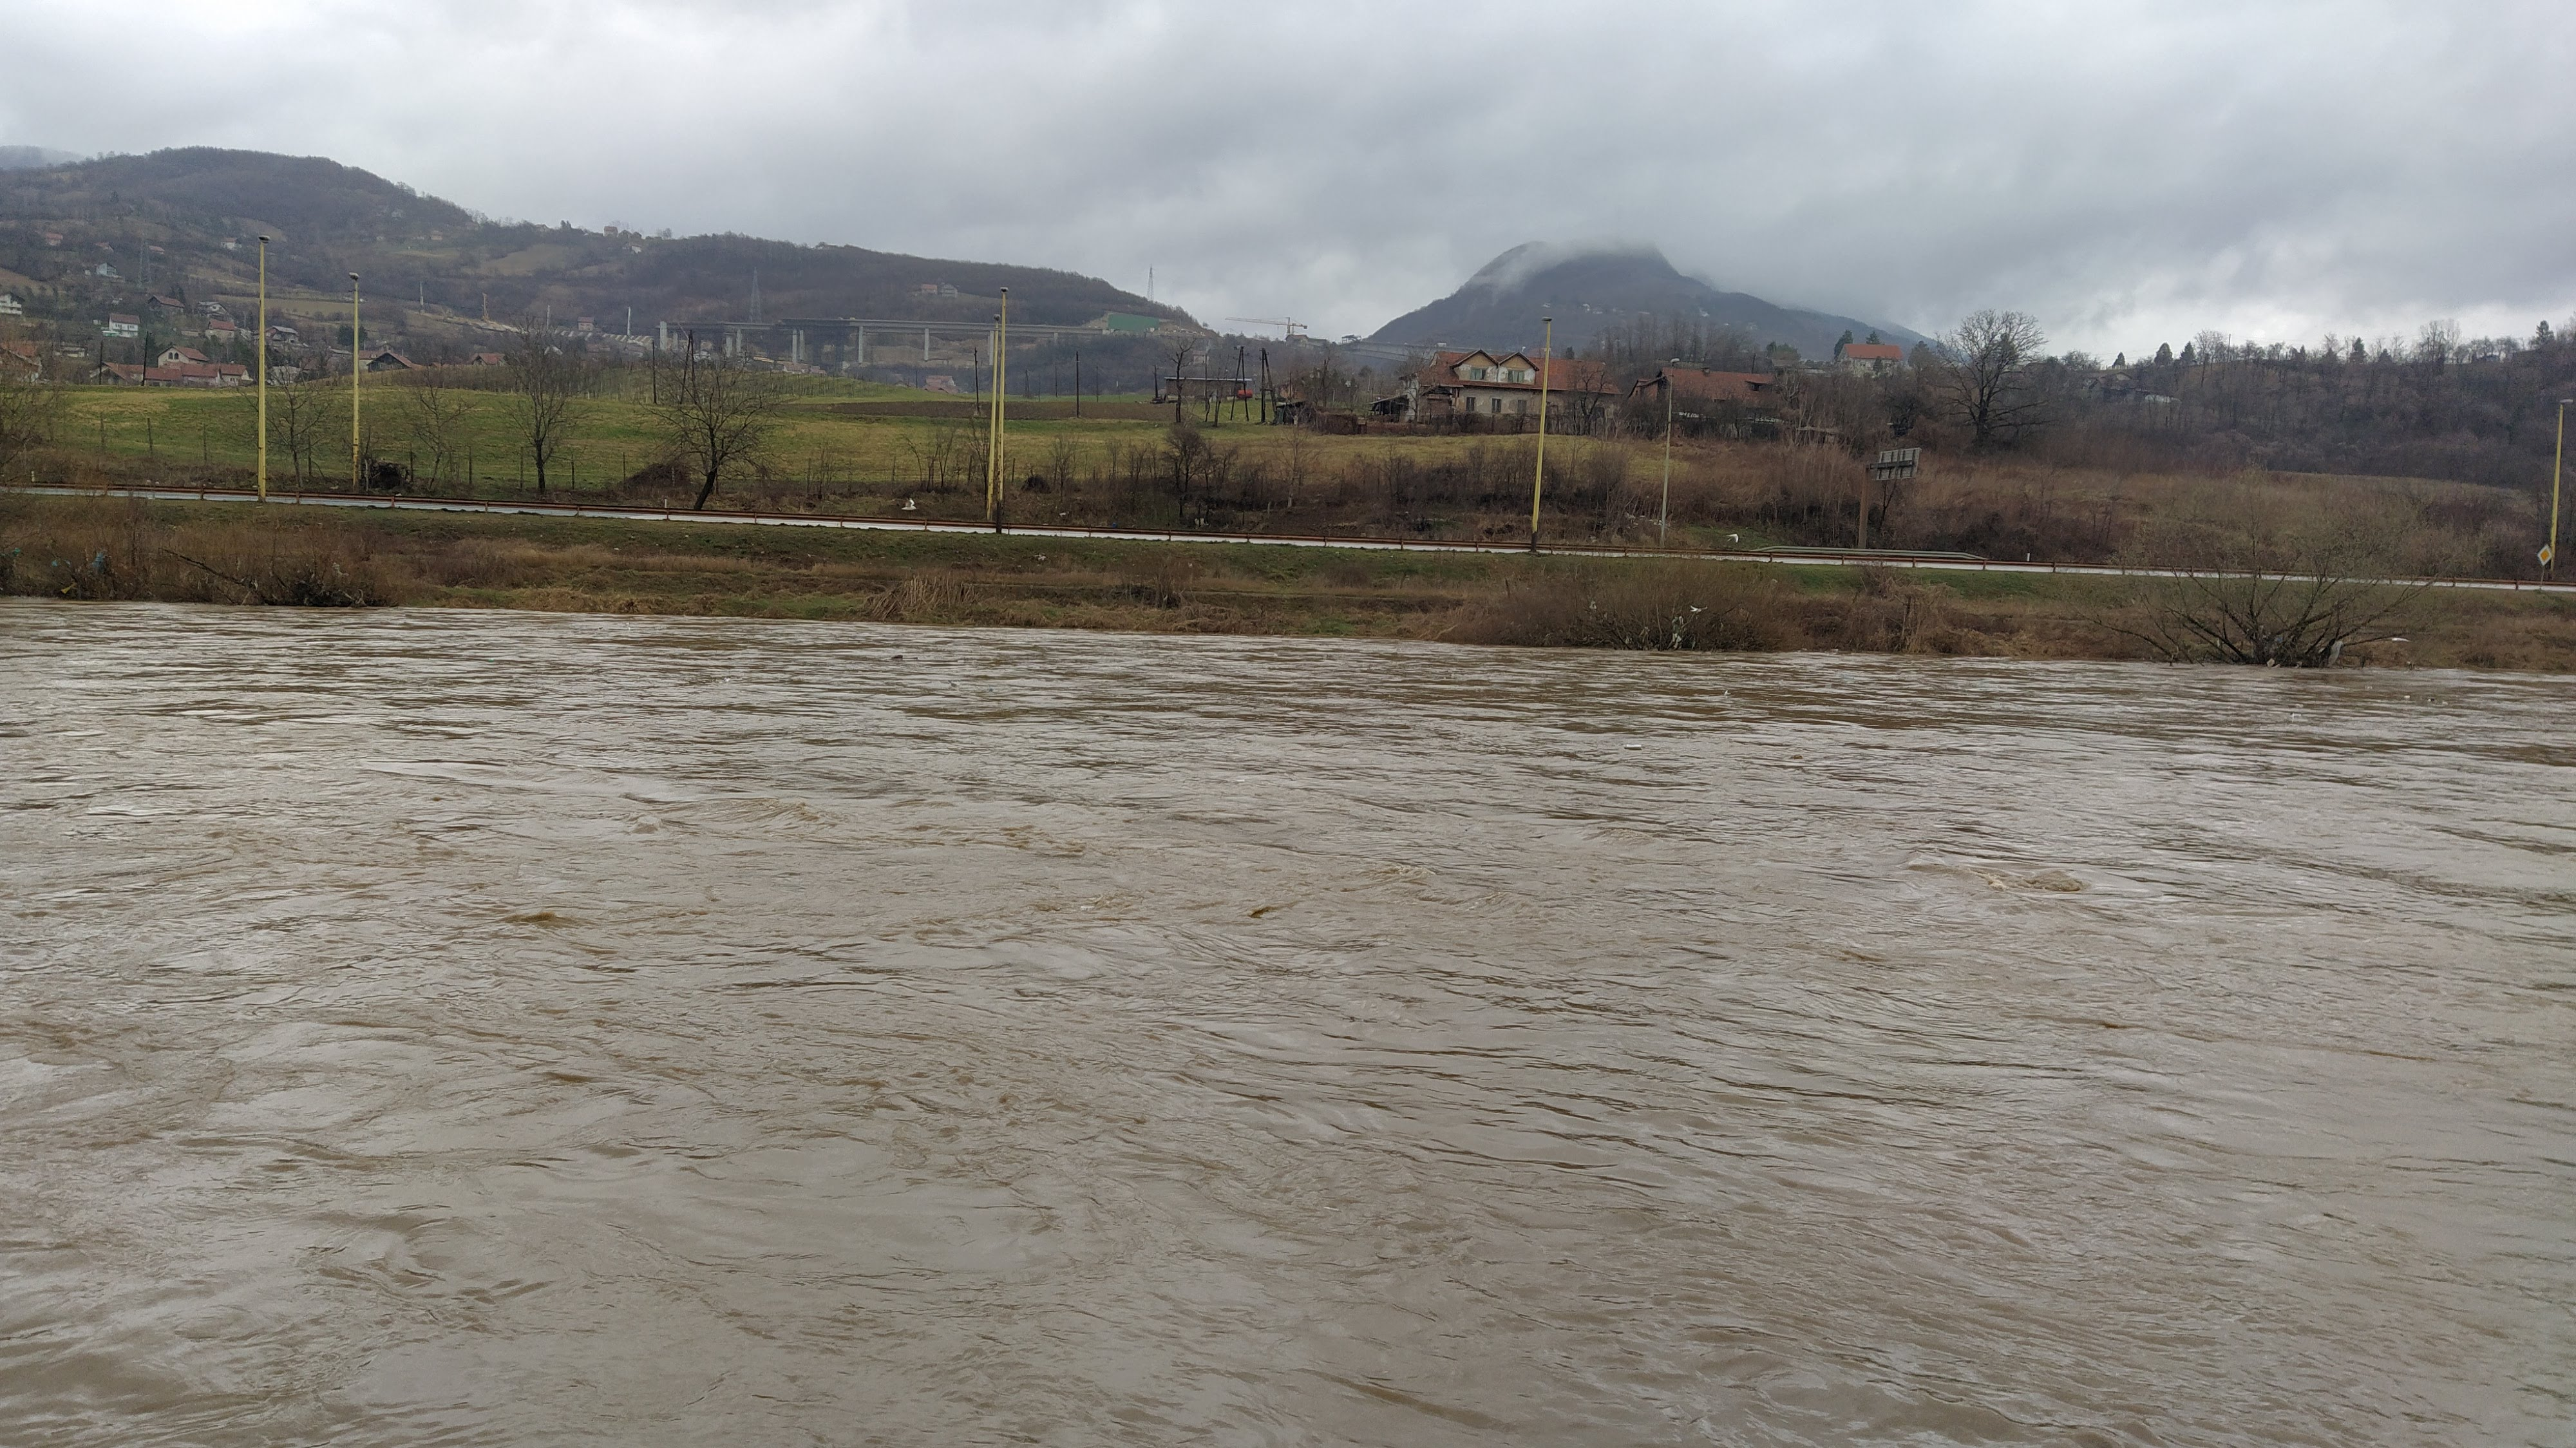Plastic Bottle: (1622, 743, 1642, 751), (1079, 905, 1093, 912), (892, 655, 901, 659), (1095, 715, 1104, 719), (2365, 685, 2373, 689), (2404, 694, 2410, 697), (487, 659, 490, 660)
